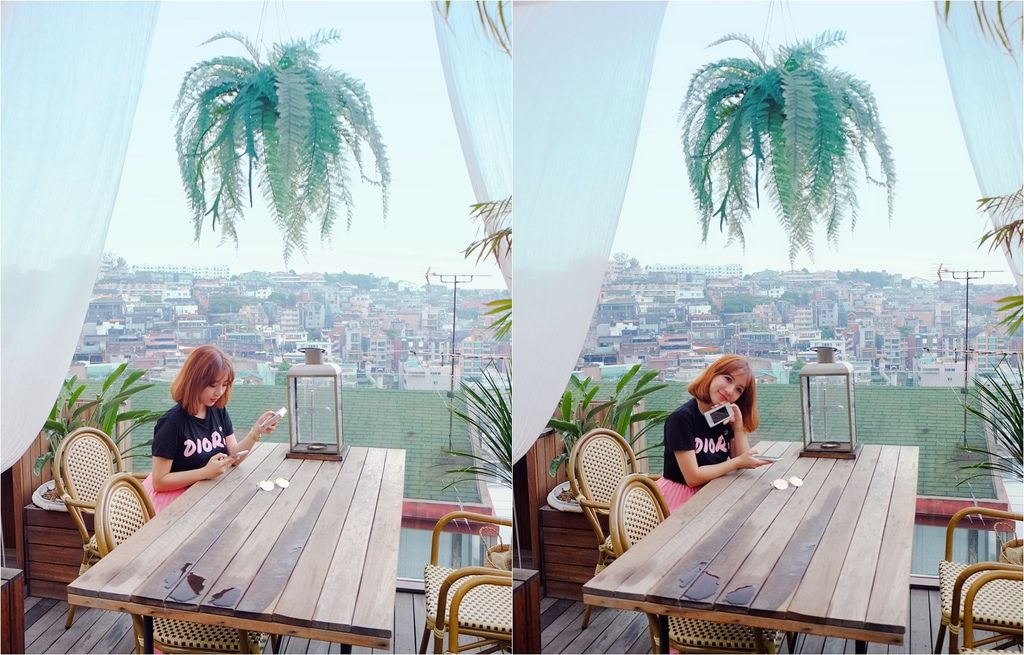people: (160, 347, 241, 486), (674, 351, 757, 481)
